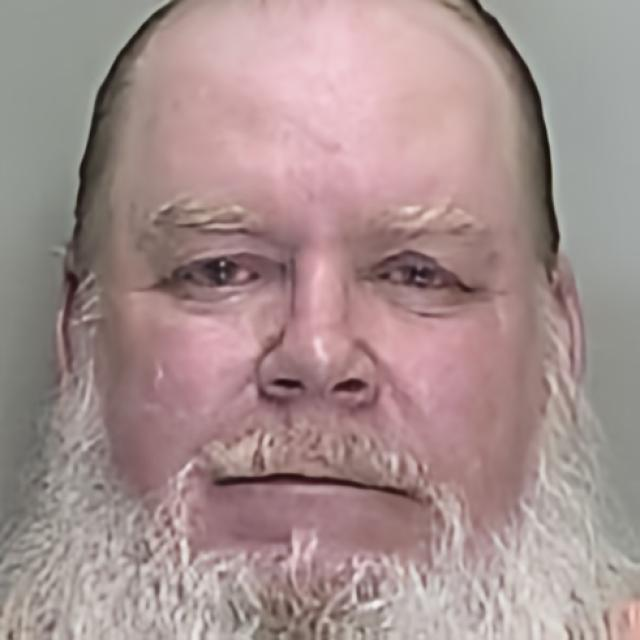neutral: (96, 0, 543, 635)
